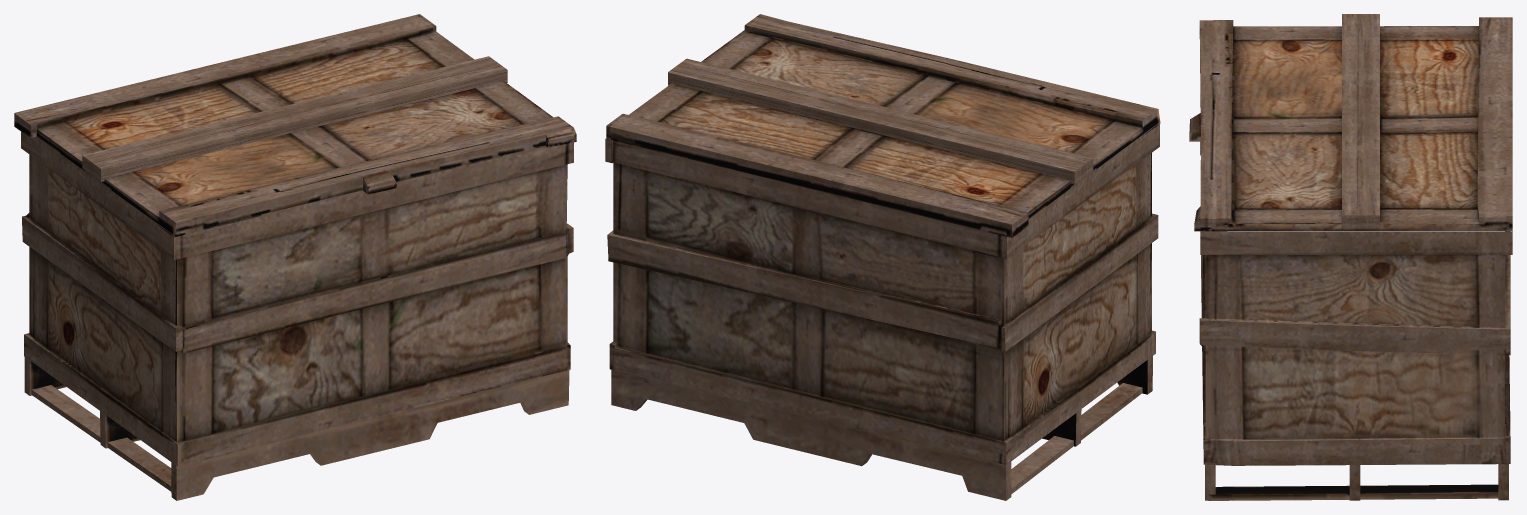
The model's file is Crate_wood03.glb.
3 renders of one model, left to right at view 1: azimuth 30°, elevation 25°; view 2: azimuth 150°, elevation 25°; view 3: azimuth 270°, elevation 25°, orthographic.
Parts seen in each view (by area): view 1: Crate_wood03; view 2: Crate_wood03; view 3: Crate_wood03.
Part boxes in pixels (x1,y1,x2,y2): Crate_wood03: [14, 14, 576, 500]; Crate_wood03: [605, 14, 1160, 500]; Crate_wood03: [1189, 14, 1512, 500].
Size of the model in its own units: 1.73 by 1.15 by 1.17.
1 material, 1 textured.
